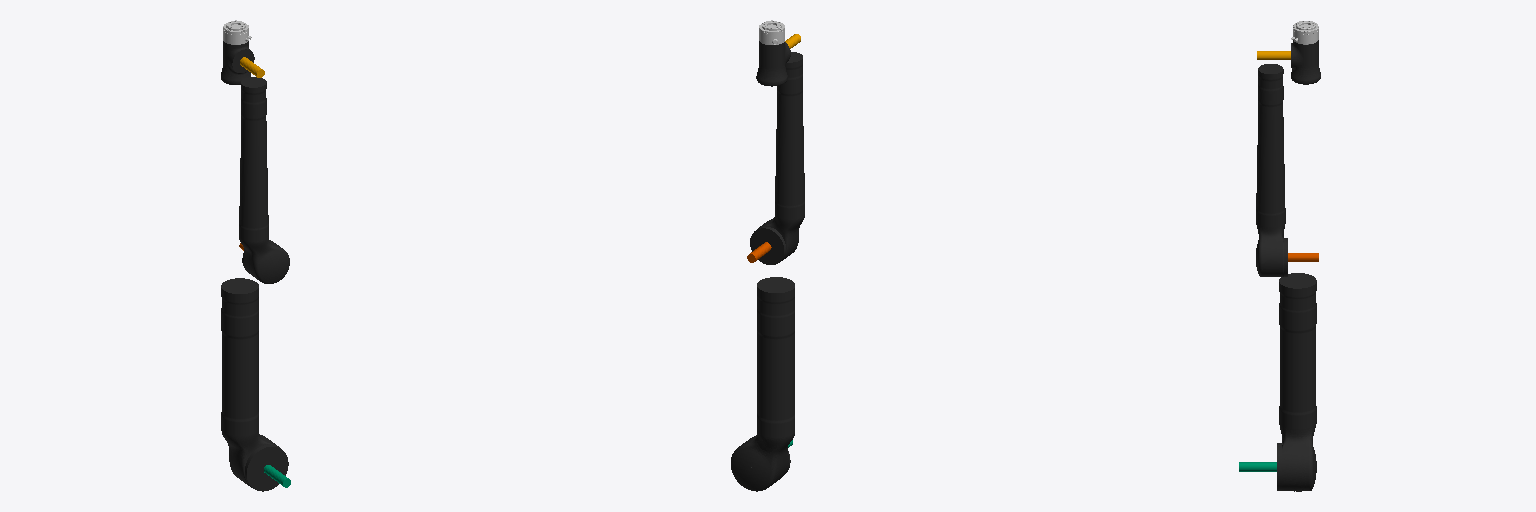
URDF robot description (kr2_robot_a1410):
<?xml version="1.0" ?>
<!-- =================================================================================== -->
<!-- |    This document was autogenerated by xacro from src/kr2_robot_S00V0000M1410.xacro | -->
<!-- |    EDITING THIS FILE BY HAND IS NOT RECOMMENDED                                 | -->
<!-- =================================================================================== -->
<robot features="TIO" mechanical-revision="1" model="a1410" model-revision="150424-0" name="kr2_robot_a1410">
  <ruid>0</ruid>
  <!-- links -->
  <link name="base">
    <inertial>
      <origin rpy="0 0 0" xyz="0 0 0.1365"/>
      <mass value="8.2"/>
      <inertia ixx="0.003" ixy="0.0" ixz="0.0" iyy="0.003" iyz="0.0" izz="0.003"/>
    </inertial>
    <visual>
      <origin rpy="0 0 0" xyz="0 0 0"/>
      <geometry>
        <mesh filename="package://ros2_description/meshes/a1410/a1410_Base.stl" scale="0.001 0.001 0.001"/>
      </geometry>
      <material name="">
        <color rgba="0.2 0.2 0.2 1"/>
      </material>
    </visual>
  </link>
  <link name="link1">
    <inertial>
      <origin rpy="1.5707963267948966 0 0" xyz="0.062 0 0.32210000000000005"/>
      <mass value="10.2"/>
      <inertia ixx="0.003" ixy="0.0" ixz="0.0" iyy="0.003" iyz="0.0" izz="0.003"/>
    </inertial>
    <visual>
      <origin rpy="0 0 0" xyz="0.062 0 0.322"/>
      <geometry>
        <mesh filename="package://ros2_description/meshes/a1410/a1410_Link2.stl" scale="0.001 0.001 0.001"/>
      </geometry>
      <material name="">
        <color rgba="0.2 0.2 0.2 1"/>
      </material>
    </visual>
  </link>
  <link name="linkJ2">
    <inertial>
      <origin rpy="0 0 0" xyz="-0.062 0.1052 0.29760000000000003"/>
      <mass value="1.51"/>
      <inertia ixx="0.003" ixy="0.0" ixz="0.0" iyy="0.003" iyz="0.0" izz="0.003"/>
    </inertial>
    <visual>
      <origin rpy="1.5707963267948966 0 0" xyz="0 -0.006 0"/>
      <geometry>
        <cylinder length="0.15" radius="0.015"/>
      </geometry>
      <material name="orange"/>
    </visual>
  </link>
  <link name="link2">
    <inertial>
      <origin rpy="0 0 0" xyz="0 0 0.5396000000000001"/>
      <mass value="4.7"/>
      <inertia ixx="0.003" ixy="0.0" ixz="0.0" iyy="0.003" iyz="0.0" izz="0.003"/>
    </inertial>
    <visual>
      <origin rpy="0 0 0" xyz="0 0.00 0.17"/>
      <geometry>
        <mesh filename="package://ros2_description/meshes/a1410/a1410_Link3.stl" scale="0.001 0.001 0.001"/>
      </geometry>
      <material name="">
        <color rgba="0.2 0.2 0.2 1"/>
      </material>
    </visual>
  </link>
  <link name="link3">
    <inertial>
      <origin rpy="-1.5707963267948966 0 0" xyz="0.05 0 0.1829"/>
      <mass value="5.78"/>
      <inertia ixx="0.003" ixy="0.0" ixz="0.0" iyy="0.003" iyz="0.0" izz="0.003"/>
    </inertial>
    <visual>
      <origin rpy="0 0 0" xyz="0.05 0 0.1829"/>
      <geometry>
        <mesh filename="package://ros2_description/meshes/a1410/a1410_Link4.stl" scale="0.001 0.001 0.001"/>
      </geometry>
      <material name="">
        <color rgba="0.2 0.2 0.2 1"/>
      </material>
    </visual>
  </link>
  <link name="linkJ4">
    <inertial>
      <origin rpy="0 0 0" xyz="-0.05 -0.0857 0.28452"/>
      <mass value="1.35"/>
      <inertia ixx="0.003" ixy="0.0" ixz="0.0" iyy="0.003" iyz="0.0" izz="0.003"/>
    </inertial>
    <visual>
      <origin rpy="1.5707963267948966 0 0" xyz="0 0.005 0"/>
      <geometry>
        <cylinder length="0.12" radius="0.015"/>
      </geometry>
      <material name="orange"/>
    </visual>
  </link>
  <link name="link4">
    <inertial>
      <origin rpy="0 0 0" xyz="0 0 0.5764"/>
      <mass value="1.5"/>
      <inertia ixx="0.003" ixy="0.0" ixz="0.0" iyy="0.003" iyz="0.0" izz="0.003"/>
    </inertial>
    <visual>
      <origin rpy="3.1415926535 1.570796326795 0" xyz="0.126 0.0535 0.631"/>
      <geometry>
        <mesh filename="package://ros2_description/meshes/a1410/a1410_Link5.stl" scale="0.001 0.001 0.001"/>
      </geometry>
      <material name="">
        <color rgba="0.2 0.2 0.2 1"/>
      </material>
    </visual>
  </link>
  <link name="link5">
    <inertial>
      <origin rpy="1.5707963267948966 0 0" xyz="0 0 0.1011"/>
      <mass value="1.7"/>
      <inertia ixx="0.003" ixy="0.0" ixz="0.0" iyy="0.003" iyz="0.0" izz="0.003"/>
    </inertial>
    <visual>
      <origin rpy="0 0 0" xyz="0 0.002 0.1011"/>
      <geometry>
        <mesh filename="package://ros2_description/meshes/a1410/a1410_Link6.stl" scale="0.001 0.001 0.001"/>
      </geometry>
      <material name="">
        <color rgba="0.2 0.2 0.2 1"/>
      </material>
    </visual>
  </link>
  <link name="linkJ6">
    <inertial>
      <origin rpy="0 0 0" xyz="0 0 0"/>
      <mass value="0.0"/>
      <inertia ixx="0.003" ixy="0.0" ixz="0.0" iyy="0.003" iyz="0.0" izz="0.003"/>
    </inertial>
    <visual>
      <origin rpy="1.5707963267948966 0 0" xyz="0 0.01 0"/>
      <geometry>
        <cylinder length="0.105" radius="0.015"/>
      </geometry>
      <material name="orange"/>
    </visual>
  </link>
  <link name="link6">
    <inertial>
      <origin rpy="0 0 0" xyz="0 0 0"/>
      <mass value="1.76"/>
      <inertia ixx="0.003" ixy="0.0" ixz="0.0" iyy="0.003" iyz="0.0" izz="0.003"/>
    </inertial>
    <visual>
      <origin rpy="0 0 0" xyz="0 0 0.002"/>
      <geometry>
        <mesh filename="package://ros2_description/meshes/a1410/a1410_Link7.stl" scale="0.001 0.001 0.001"/>
      </geometry>
      <material name="">
        <color rgba="0.2 0.2 0.2 1"/>
      </material>
    </visual>
  </link>
  <link name="end_effector">
    <inertial>
      <origin rpy="0 0 0" xyz="0 0 -0.021"/>
      <mass value="0.33"/>
      <inertia ixx="0.003" ixy="0.0" ixz="0.0" iyy="0.003" iyz="0.0" izz="0.003"/>
    </inertial>
    <visual>
      <origin rpy="0 0 0" xyz="0 0 -0.1051"/>
      <geometry>
        <mesh filename="package://ros2_description/meshes/a1410/a1410_ToolIO.stl" scale="0.001 0.001 0.001"/>
      </geometry>
      <material name="">
        <color rgba="0.8 0.8 0.8 1"/>
      </material>
    </visual>
  </link>
  <!-- joints -->
  <joint name="joint0" type="continuous">
    <parent link="base"/>
    <child link="link1"/>
    <origin rpy="0.0 -0.0 0.0" xyz="0 0 0.035"/>
    <axis xyz="0 0 1"/>
    <dynamics damping="1.0"/>
    <limit effort="500" lower="-6.283185307179586" upper="6.283185307179586" velocity="2.8361600344907854"/>
  </joint>
  <joint name="joint1" type="continuous">
    <parent link="link1"/>
    <child link="linkJ2"/>
    <origin rpy="0.0 0.0 0.0" xyz="0.062 0.0 0.3222"/>
    <axis xyz="0 1 0"/>
    <dynamics damping="1.0"/>
    <limit effort="500" lower="-1.2217304763960306" upper="3.141592653589793" velocity="2.8361600344907854"/>
  </joint>
  <joint name="jointPL2" type="fixed">
    <parent link="linkJ2"/>
    <child link="link2"/>
    <origin rpy="0.0 -0.0 0.0" xyz="-0.062 0.1052 0"/>
  </joint>
  <joint name="joint2" type="continuous">
    <parent link="link2"/>
    <child link="link3"/>
    <origin rpy="0 0 0" xyz="0 0 0.5396000000000001"/>
    <axis xyz="0 0 1"/>
    <dynamics damping="1.0"/>
    <limit effort="204" lower="-6.283185307179586" upper="6.283185307179586" velocity="3.9269908169872414"/>
  </joint>
  <joint name="joint3" type="continuous">
    <parent link="link3"/>
    <child link="linkJ4"/>
    <origin rpy="0.0 0.0 0.0" xyz="0.05 0.0 0.1829"/>
    <axis xyz="0 1 0"/>
    <dynamics damping="1.0"/>
    <limit effort="204" lower="-1.2217304763960306" upper="3.141592653589793" velocity="3.9269908169872414"/>
  </joint>
  <joint name="jointPL4" type="fixed">
    <parent link="linkJ4"/>
    <child link="link4"/>
    <origin rpy="0.0 -0.0 0.0" xyz="-0.05 -0.0857 0.0"/>
  </joint>
  <joint name="joint4" type="continuous">
    <parent link="link4"/>
    <child link="link5"/>
    <origin rpy="0 0 0" xyz="0 0 0.5764"/>
    <axis xyz="0 0 1"/>
    <dynamics damping="1.0"/>
    <limit effort="80" lower="-6.283185307179586" upper="6.283185307179586" velocity="3.9269908169872414"/>
  </joint>
  <joint name="joint5" type="continuous">
    <parent link="link5"/>
    <child link="linkJ6"/>
    <origin rpy="0.0 0.0 0.0" xyz="0.0 0 0.1011"/>
    <axis xyz="0 1 0"/>
    <dynamics damping="1.0"/>
    <limit effort="80" lower="-6.283185307179586" upper="6.283185307179586" velocity="3.9269908169872414"/>
  </joint>
  <joint name="jointPL6" type="fixed">
    <parent link="linkJ6"/>
    <child link="link6"/>
    <origin rpy="0.0 0.0 0.0" xyz="0.0 0.111 0"/>
  </joint>
  <joint name="joint6" type="continuous">
    <parent link="link6"/>
    <child link="end_effector"/>
    <origin rpy="0 0 0" xyz="0 0 0.108"/>
    <axis xyz="0 0 1"/>
    <dynamics damping="1.0"/>
    <limit effort="80" lower="-6.283185307179586" upper="6.283185307179586" velocity="3.9269908169872414"/>
  </joint>
  <!-- Transmission mappings -->
</robot>

--- Render facts (derived) ---
The picture shows the robot from 3 angles, left to right: view 1: azimuth 30°, elevation 25°; view 2: azimuth 150°, elevation 25°; view 3: azimuth 270°, elevation 25°; orthographic projection.
Model kr2_robot_a1410 with 11 links and 10 joints (7 continuous, 3 fixed), rooted at base, posed all joints at 0.
Visible links, largest first — view 1: link2, link4, link6, end_effector; view 2: link2, link4, link6, end_effector; view 3: link2, link4, link6, end_effector.
Boxes of the visible links, bbox=[...] form: link2: bbox=[221, 278, 288, 491]; link4: bbox=[239, 77, 289, 283]; link6: bbox=[221, 41, 254, 84]; end_effector: bbox=[223, 20, 251, 44]; link2: bbox=[731, 277, 794, 491]; link4: bbox=[750, 52, 804, 264]; link6: bbox=[756, 41, 790, 86]; end_effector: bbox=[759, 20, 784, 44]; link2: bbox=[1277, 273, 1316, 491]; link4: bbox=[1256, 64, 1287, 276]; link6: bbox=[1291, 40, 1320, 84]; end_effector: bbox=[1291, 21, 1318, 44].
Size in the robot's own frame: 0.1985 by 0.2595 by 1.59 metres.
Meshes: 8 distinct files referenced, 4 mesh visuals loaded (4 binary STL); not drawn: 4 (reference not matched to a file when rendering).
